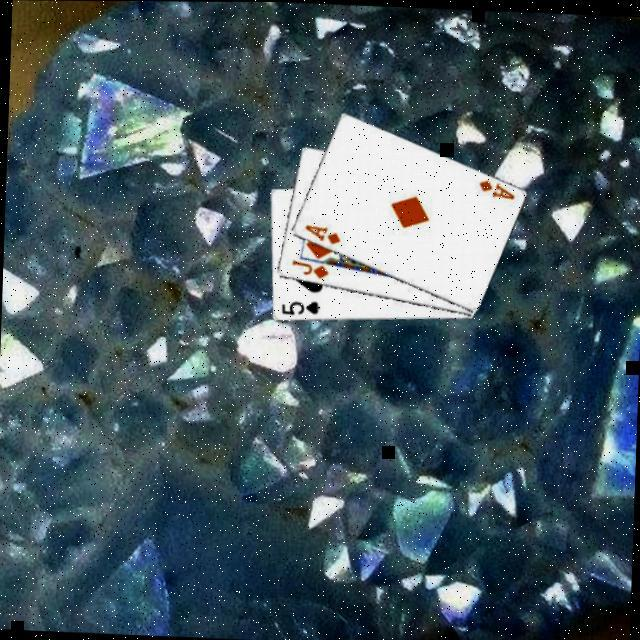5S: (275, 294, 320, 316)
AD: (473, 174, 515, 199), (298, 220, 340, 244)
JD: (286, 255, 330, 279)
